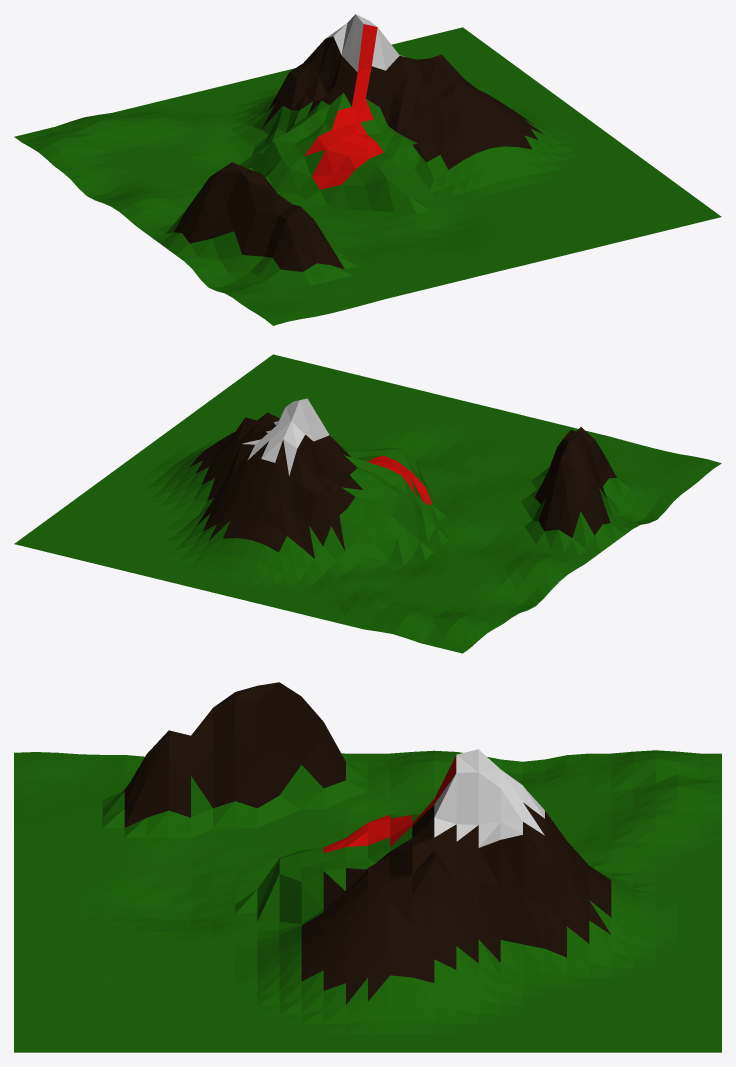
Rendered from level_obj.obj.
3 renders of one model, top to bottom at view 1: azimuth 30°, elevation 25°; view 2: azimuth 150°, elevation 25°; view 3: azimuth 270°, elevation 25°, orthographic. The views are drawn at different scales.
Visible parts, largest first — view 1: Level_Plane; view 2: Level_Plane; view 3: Level_Plane.
Boxes of the visible parts, <box> form: Level_Plane: <box>14,14,721,325</box>; Level_Plane: <box>14,354,721,653</box>; Level_Plane: <box>14,682,721,1052</box>.
Bounding box in the file's own units: 16 × 4.7 × 16.
